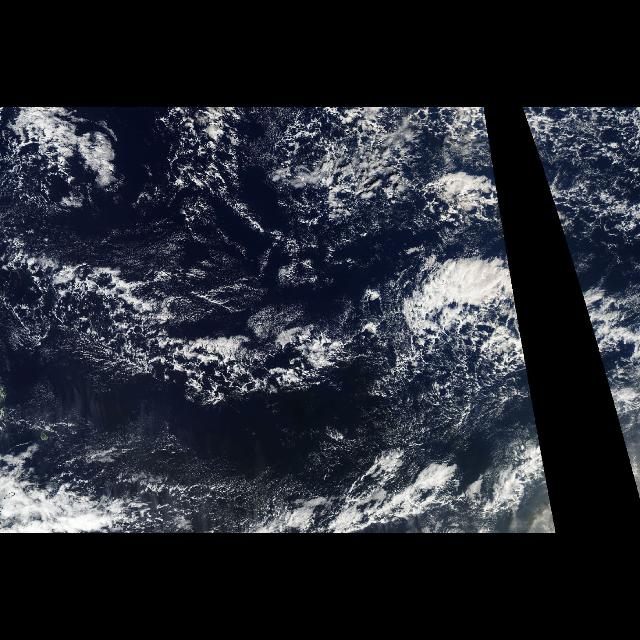Fish: (5, 242, 398, 406)
Gravel: (171, 107, 505, 235), (522, 107, 640, 235)
